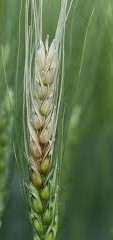Wheat scab: (21, 36, 67, 236)
